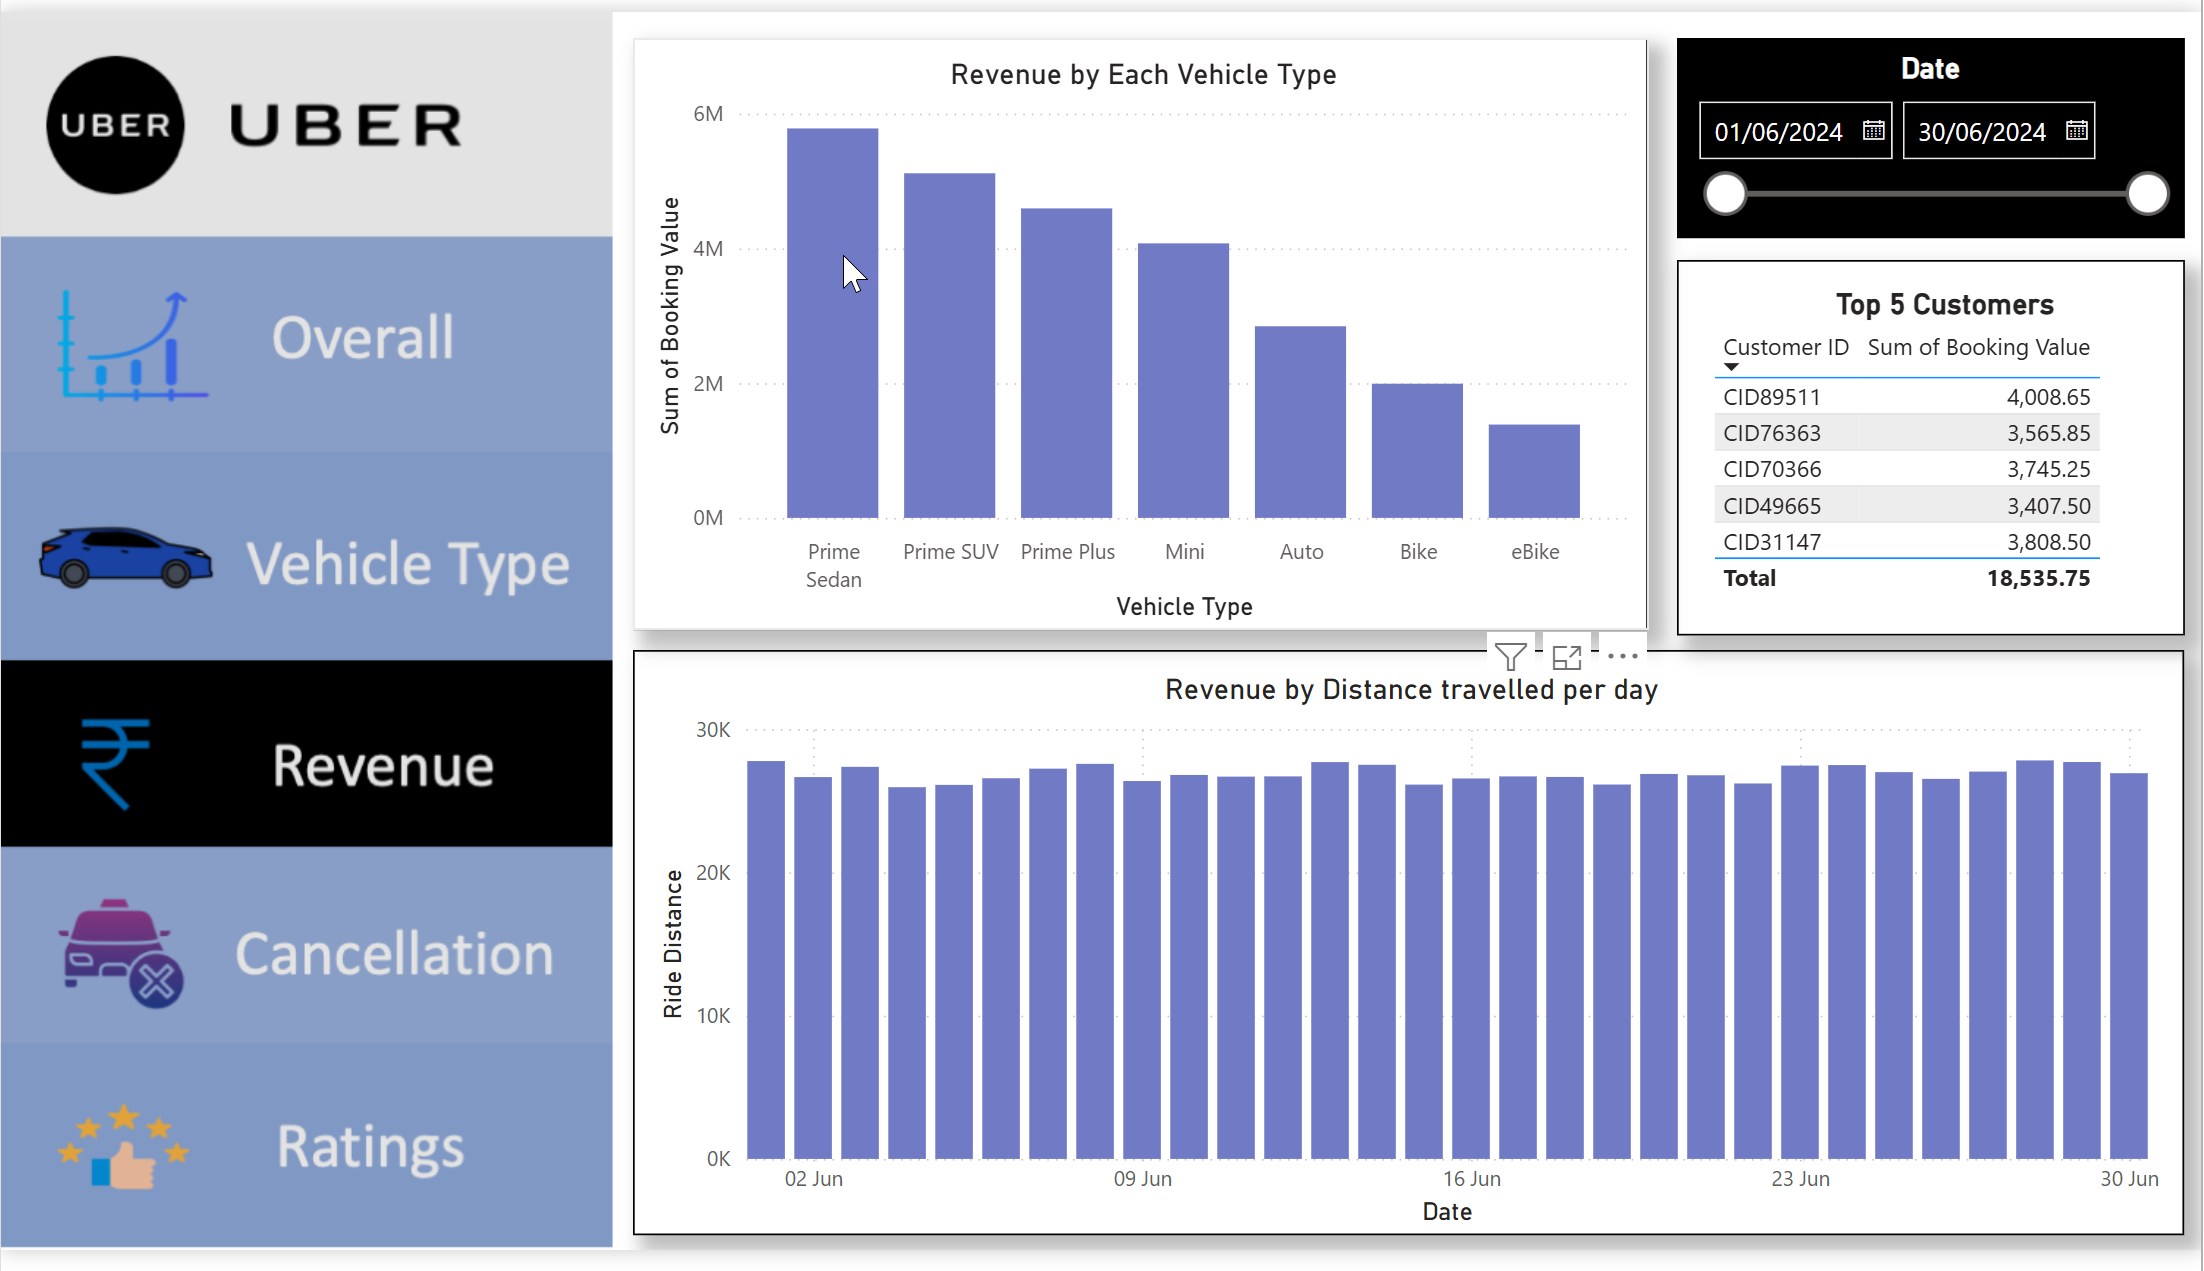

This screenshot's page, from the dashboard's own definition file:
{"tool":"powerbi","page":{"name":"Revenue","canvas":[1280,720],"ordinal":2},"visuals":[{"type":"actionButton","box":[0,258.2,355.7,112.6],"z":0},{"type":"actionButton","box":[0,493,355.7,98.9],"z":1000},{"type":"actionButton","box":[0,602.9,355.7,107.1],"z":2000},{"type":"actionButton","box":[0,131.8,355.7,119.5],"z":3000},{"type":"columnChart","title":"Revenue by Distance travelled per day","fields":{"Category":["bengaluru_ride_data_updated (1).Date"],"Y":["Sum(bengaluru_ride_data_updated (1).Ride Distance)"]},"box":[368.1,370.8,902.3,340.6],"z":4000},{"type":"slicer","title":"Date","fields":{"Values":["bengaluru_ride_data_updated (1).Date"]},"box":[975.1,15.1,295.3,116.7],"z":5000},{"type":"tableEx","title":"Top 5 Customers","fields":{"Values":["bengaluru_ride_data_updated (1).Customer ID","Sum(bengaluru_ride_data_updated (1).Booking Value)"]},"box":[975.1,144.2,295.3,218.4],"z":6000},{"type":"columnChart","title":"Revenue by Each Vehicle Type","fields":{"Y":["Sum(june.Booking Value)"],"Category":["june.Vehicle Type"]},"box":[368.1,15.1,590.6,344.7],"z":6001}]}

Visuals, with their boxes in screenshot pixels (x1, y1, x2, y2), scaled from the page's 1280x720 canvas onto the 2204x1271 screenshot:
actionButton: pyautogui.locateOnScreen(0, 456, 612, 655)
actionButton: pyautogui.locateOnScreen(0, 870, 612, 1045)
actionButton: pyautogui.locateOnScreen(0, 1064, 612, 1253)
actionButton: pyautogui.locateOnScreen(0, 233, 612, 444)
"Revenue by Distance travelled per day" columnChart: pyautogui.locateOnScreen(634, 655, 2187, 1256)
"Date" slicer: pyautogui.locateOnScreen(1679, 27, 2187, 233)
"Top 5 Customers" tableEx: pyautogui.locateOnScreen(1679, 255, 2187, 640)
"Revenue by Each Vehicle Type" columnChart: pyautogui.locateOnScreen(634, 27, 1651, 635)
